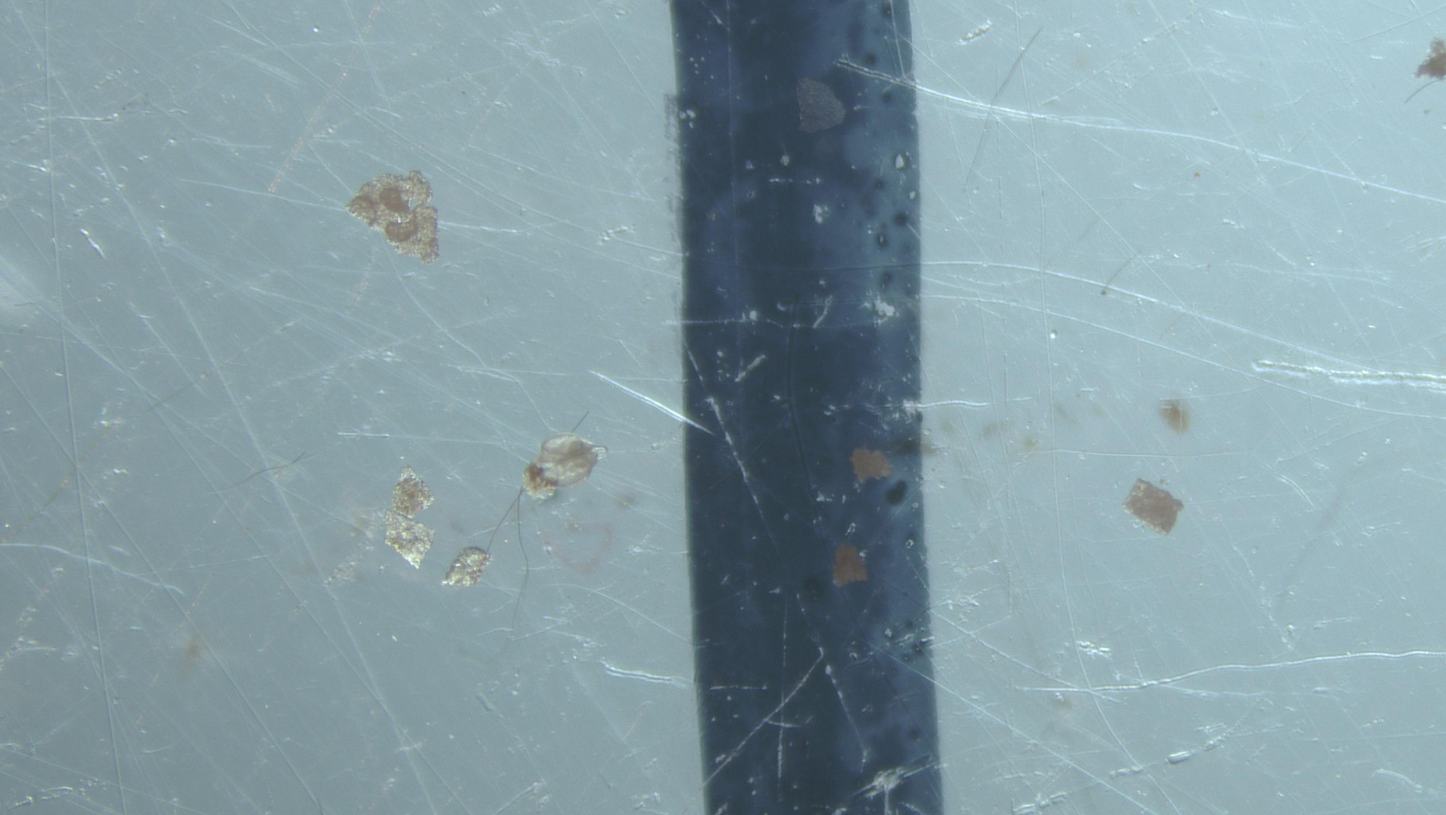live: (534, 434, 604, 488)
